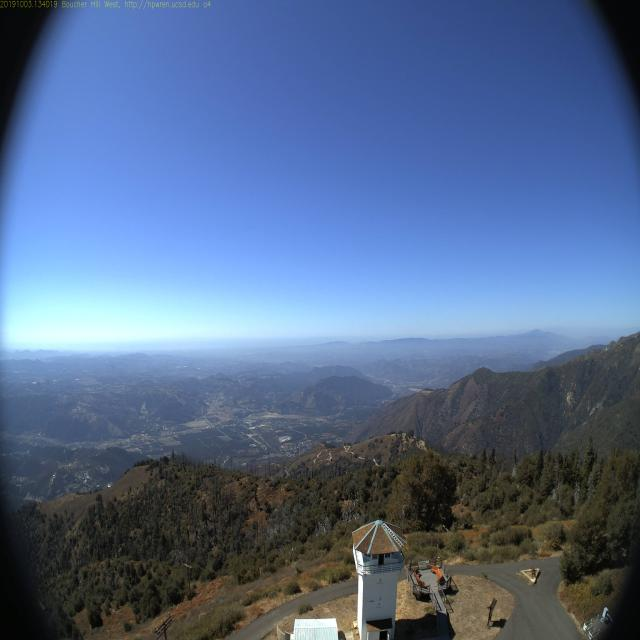smoke: (356, 335, 366, 352)
